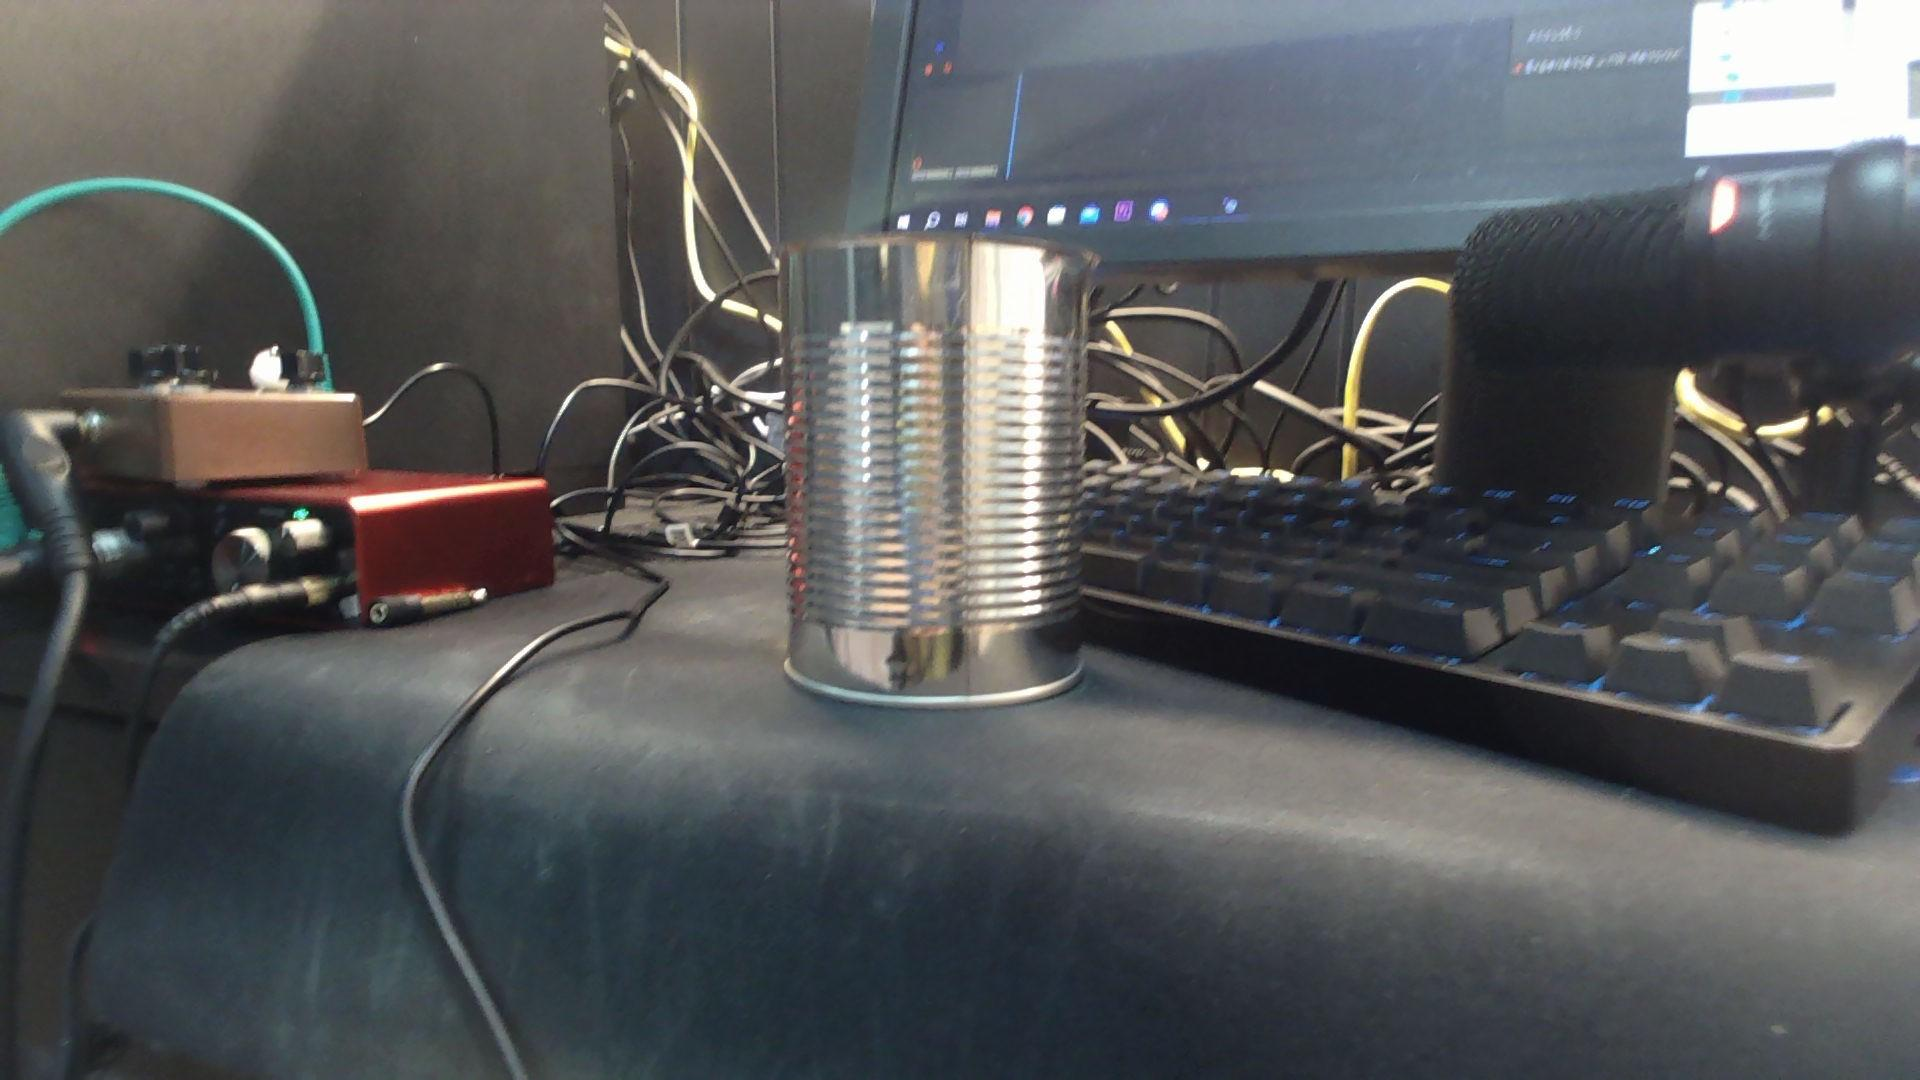metal: (786, 237, 1087, 707)
